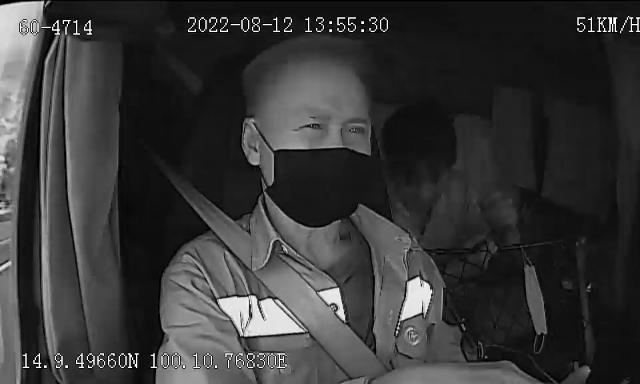SafeDriving: (288, 114, 330, 138), (338, 116, 374, 142)
Seatbelt: (168, 173, 392, 384)
